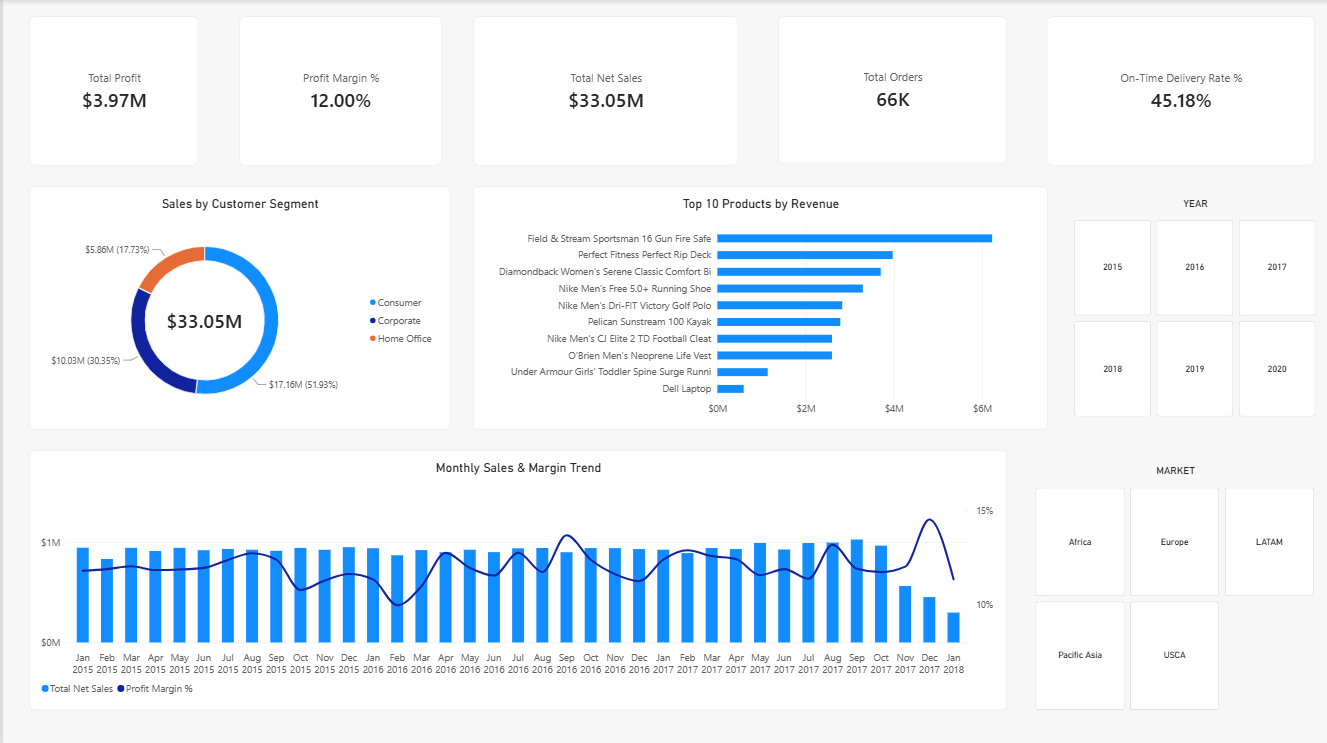

This screenshot's page, from the dashboard's own definition file:
{"tool":"powerbi","page":{"name":"Executive Overview ","canvas":[1920,1080],"ordinal":0},"visuals":[{"type":"cardVisual","fields":{"Data":["FACT_SALES.Total Net Sales"]},"box":[680.4,23.5,384.1,216.3],"z":0},{"type":"cardVisual","fields":{"Data":["FACT_SALES.Total Profit"]},"box":[38,23.5,245,216.3],"z":1000},{"type":"cardVisual","fields":{"Data":["FACT_SALES.Profit Margin %"]},"box":[342,23.5,293.6,216.3],"z":2000},{"type":"cardVisual","fields":{"Data":["FACT_SALES.Total Orders"]},"box":[1122,23.5,331.2,213.5],"z":3000},{"type":"cardVisual","fields":{"Data":["FACT_SALES.On-Time Delivery Rate %"]},"box":[1511.1,23.5,388.5,216.3],"z":4000},{"type":"lineClusteredColumnComboChart","title":"Monthly Sales & Margin Trend","fields":{"Category":["DIM_DATE.MONTH_YEAR"],"Y":["FACT_SALES.Total Net Sales"],"Y2":["FACT_SALES.Profit Margin %"]},"box":[38,651.5,1415.2,376.4],"z":5000},{"type":"donutChart","title":"Sales by Customer Segment","fields":{"Category":["DIM_CUSTOMER.CUSTOMER_SEGMENT"],"Y":["FACT_SALES.Total Net Sales"]},"box":[37.5,269.3,609.2,353.2],"z":6000},{"type":"clusteredBarChart","title":"Top 10 Products by Revenue","fields":{"Category":["DIM_PRODUCT.PRODUCT_NAME"],"Y":["FACT_SALES.Total Net Sales"]},"box":[679.9,269.3,832.2,353.2],"z":7000},{"type":"advancedSlicerVisual","fields":{"Values":["DIM_DATE.YEAR"]},"box":[1550.9,285.9,351,317.9],"z":8000},{"type":"advancedSlicerVisual","fields":{"Values":["DIM_ORDER.MARKET"]},"box":[1494.8,673.2,405.4,356.5],"z":9000}]}

Visuals, with their boxes in screenshot pixels (x1, y1, x2, y2), scaled from the page's 1920x1080 canvas onto the 1327x743 screenshot:
cardVisual - FACT_SALES.Total Net Sales: pyautogui.locateOnScreen(470, 16, 736, 165)
cardVisual - FACT_SALES.Total Profit: pyautogui.locateOnScreen(26, 16, 196, 165)
cardVisual - FACT_SALES.Profit Margin %: pyautogui.locateOnScreen(236, 16, 439, 165)
cardVisual - FACT_SALES.Total Orders: pyautogui.locateOnScreen(775, 16, 1004, 163)
cardVisual - FACT_SALES.On-Time Delivery Rate %: pyautogui.locateOnScreen(1044, 16, 1313, 165)
"Monthly Sales & Margin Trend" lineClusteredColumnComboChart: pyautogui.locateOnScreen(26, 448, 1004, 707)
"Sales by Customer Segment" donutChart: pyautogui.locateOnScreen(26, 185, 447, 428)
"Top 10 Products by Revenue" clusteredBarChart: pyautogui.locateOnScreen(470, 185, 1045, 428)
advancedSlicerVisual - DIM_DATE.YEAR: pyautogui.locateOnScreen(1072, 197, 1314, 415)
advancedSlicerVisual - DIM_ORDER.MARKET: pyautogui.locateOnScreen(1033, 463, 1313, 708)
